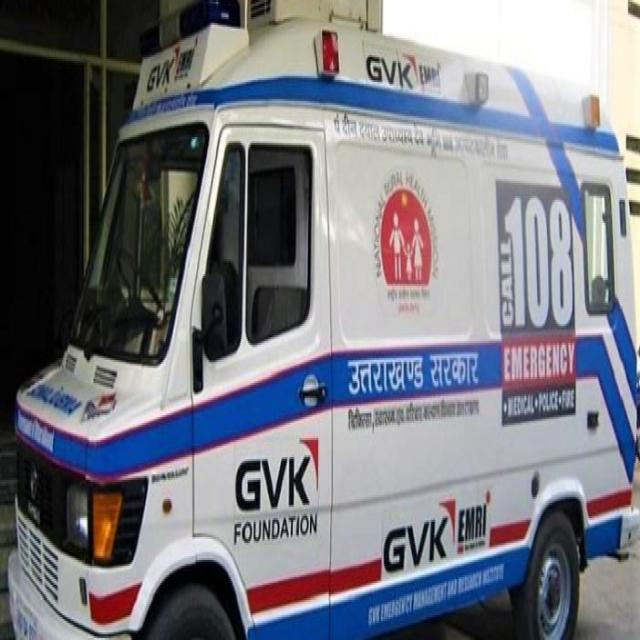Ambulance: (25, 10, 634, 640)
